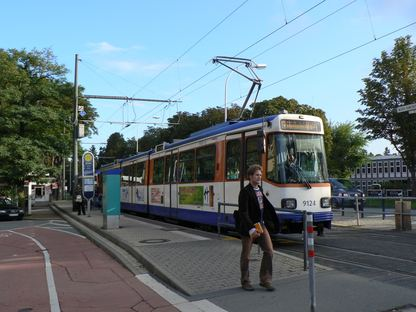bus: (371, 184, 382, 196)
car: (329, 178, 365, 209), (0, 198, 24, 220)
